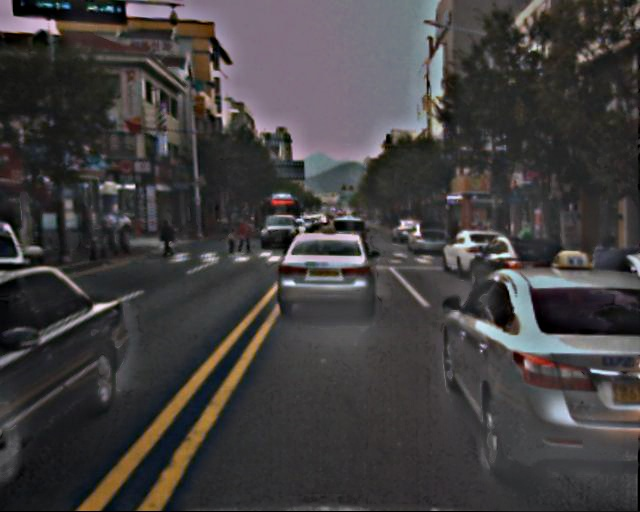person: (592, 238, 630, 331), (90, 209, 128, 256), (157, 217, 175, 260), (549, 220, 564, 257), (236, 219, 251, 255), (227, 230, 237, 254)
